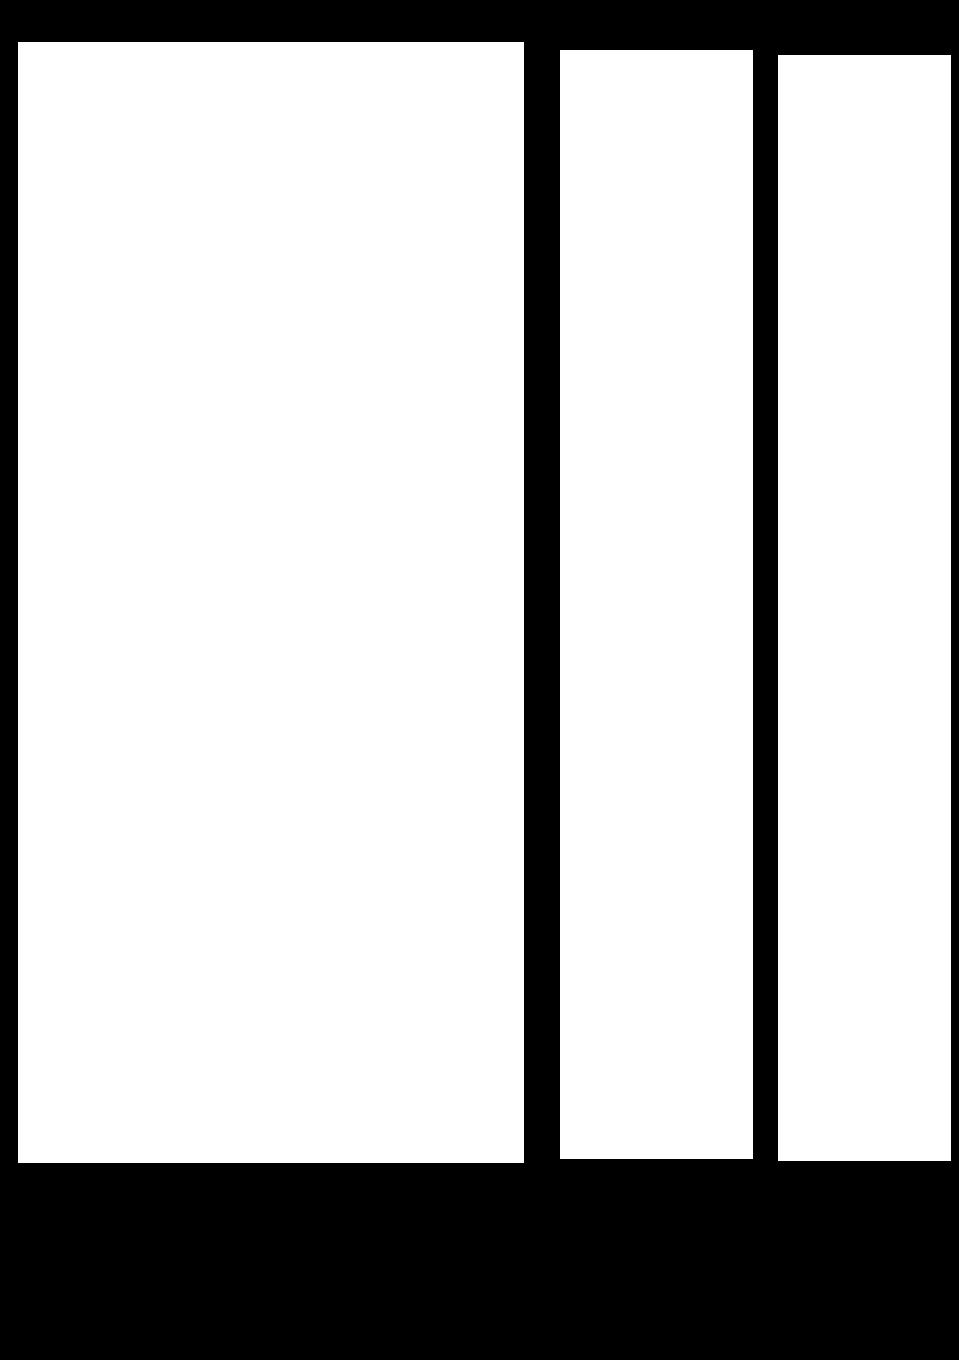column: (18, 42, 524, 1163), (560, 50, 753, 1159), (778, 55, 951, 1161)
table: (1, 21, 959, 1324)
